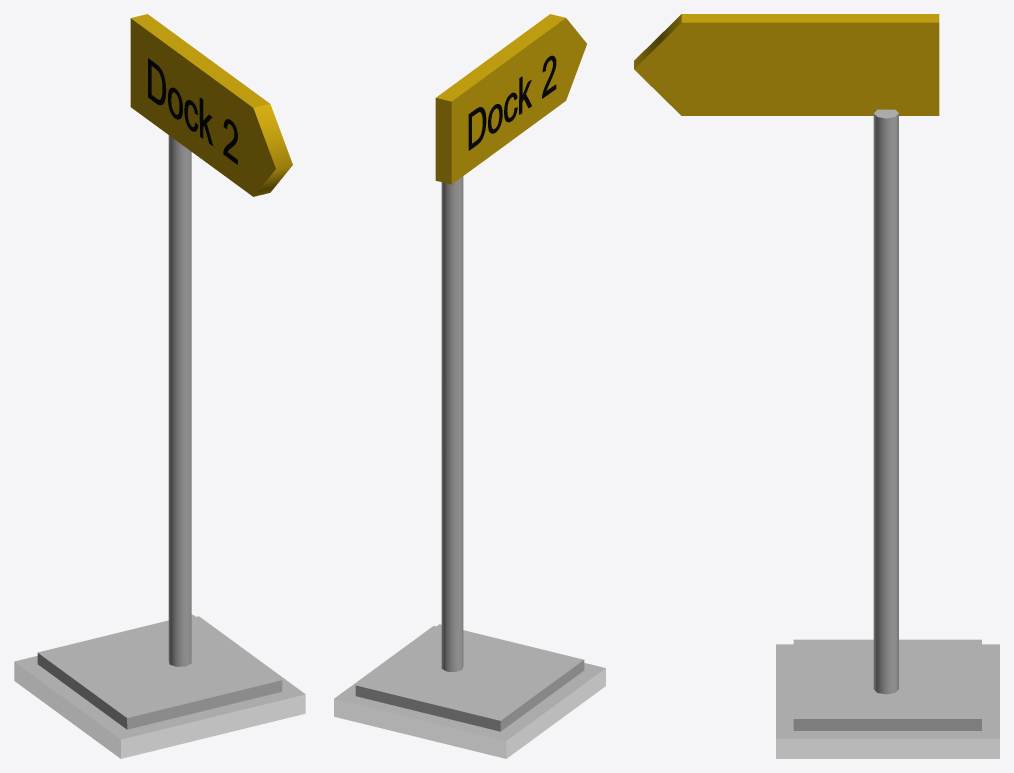
The model's file is Dock-2.FBX.
3 views of the same model, side by side, from view 1: azimuth 30°, elevation 25°; view 2: azimuth 150°, elevation 25°; view 3: azimuth 270°, elevation 25° (orthographic). The views are drawn at different scales.
Visible parts, largest first — view 1: ChamferBox001, Box001, Cylinder001, Text001; view 2: ChamferBox001, Box001, Cylinder001, Text001; view 3: Box001, ChamferBox001, Cylinder001.
Part boxes in pixels (bbox=[...]): ChamferBox001: bbox=[14, 614, 305, 758]; Box001: bbox=[130, 14, 292, 196]; Cylinder001: bbox=[168, 135, 191, 666]; Text001: bbox=[148, 58, 237, 164]; ChamferBox001: bbox=[334, 624, 605, 758]; Box001: bbox=[435, 14, 586, 184]; Cylinder001: bbox=[441, 176, 463, 672]; Text001: bbox=[468, 55, 556, 150]; Box001: bbox=[634, 14, 939, 115]; ChamferBox001: bbox=[776, 639, 999, 758]; Cylinder001: bbox=[873, 109, 898, 694].
Bounding box in the file's own units: 5.34 × 18.28 × 8.72.
